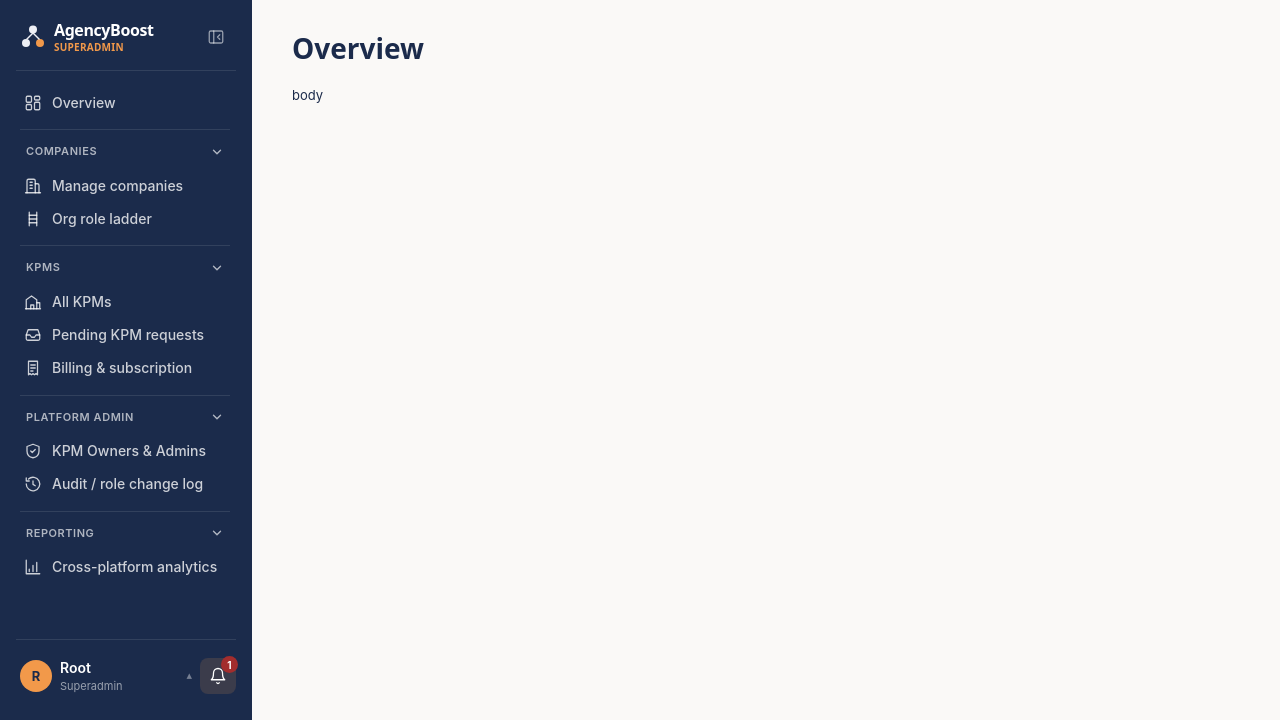
Test: RoleShell › the notification bell (client feedback, 2026-09-24) › P12.1-T2 AC-1 opens a Super Admin’s popover from the bell, without navigating
The width and height of the screenshot is (1280, 720).
Step 1. Click the button named "Notifications, 1 unread" → (218, 676), box [200,658,236,694]
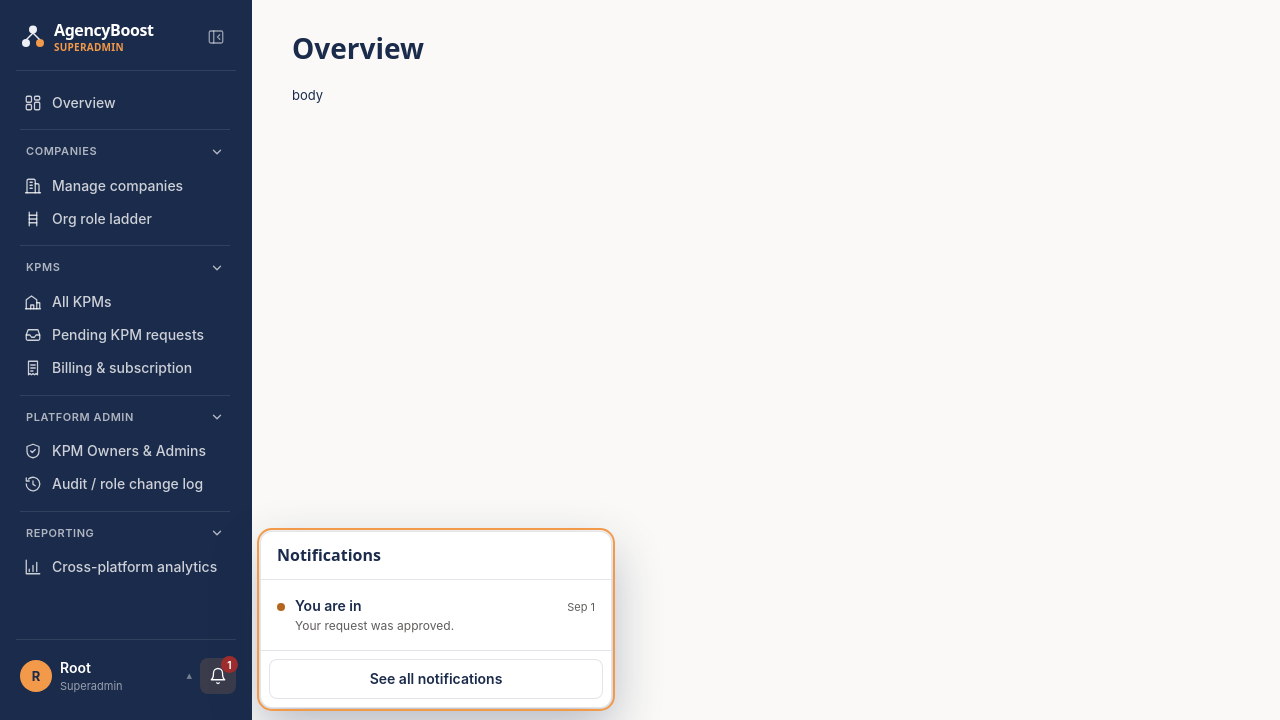
expect the button named "Unread: You are in" is shown: met, box [267,588,605,642]
